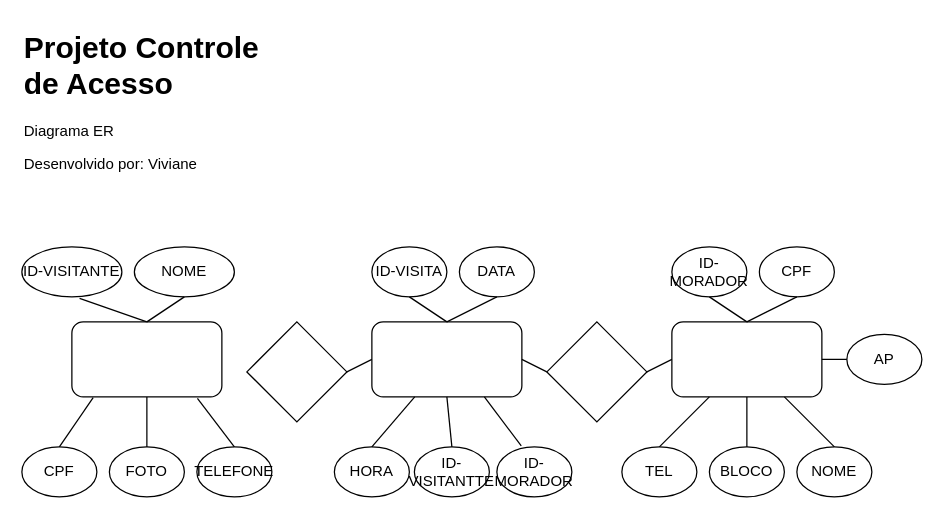
The diagram is 944 pixels wide and 519 high, and some of its shapes have lost their labels. Each missing label, with the centre of its shape:
"MORADOR" goes at (x=746, y=359).
"VISITA" goes at (x=446, y=359).
"VISITANTE" goes at (x=146, y=359).
